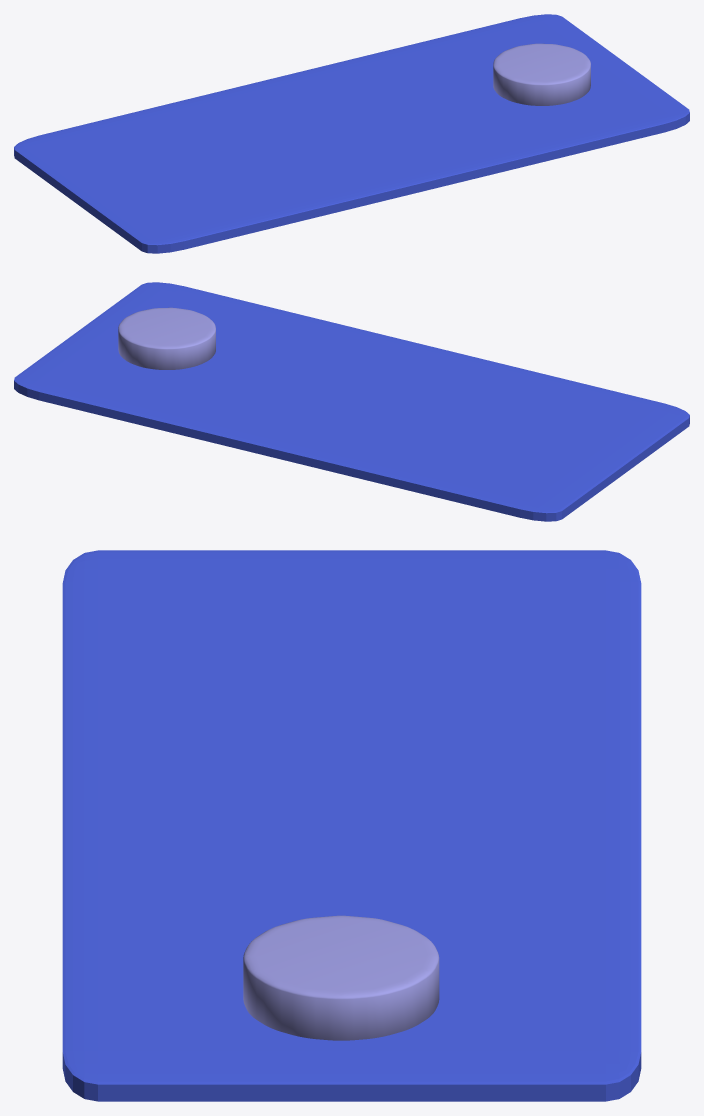
File: Tapete.fbx
3 views of the same model, one above another, from view 1: azimuth 30°, elevation 25°; view 2: azimuth 150°, elevation 25°; view 3: azimuth 270°, elevation 25° (orthographic). The views are drawn at different scales.
Visible parts, largest first — view 1: Extended Mat, Circular Block; view 2: Extended Mat, Circular Block; view 3: Extended Mat, Circular Block.
Boxes of the visible parts, x1,y1,x2,y2 form: Extended Mat: [14, 14, 689, 253]; Circular Block: [493, 43, 590, 105]; Extended Mat: [14, 282, 689, 521]; Circular Block: [118, 307, 215, 369]; Extended Mat: [62, 550, 641, 1101]; Circular Block: [243, 915, 439, 1040].
Bounding box in the file's own units: 209 × 11.58 × 95.49.
